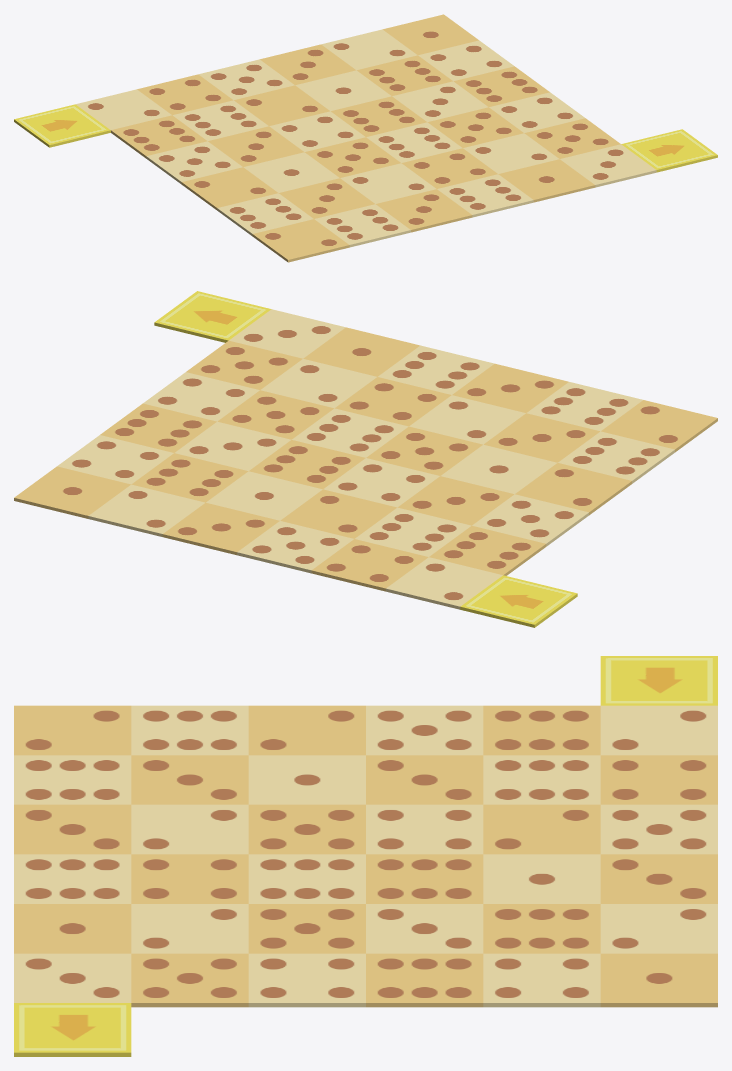
The model's file is diceMap.glb.
The picture shows the model from 3 angles, top to bottom: view 1: azimuth 30°, elevation 25°; view 2: azimuth 150°, elevation 25°; view 3: azimuth 270°, elevation 25°; orthographic projection. The views are drawn at different scales.
Visible parts, largest first — view 1: 立方体.023, 立方体.036, 立方体.019, 立方体.018, 立方体.022, 立方体.020, 立方体.037, 立方体.021, 立方体.035, 立方体.024, 立方体.012, 立方体.011 (+26 smaller); view 2: 立方体.036, 立方体.001, 立方体.004, 立方体.005, 立方体, 立方体.003, 立方体.002, 立方体.037, 立方体.023, 立方体.024, 立方体.035, 立方体.011 (+26 smaller); view 3: 立方体.008, 立方体.027, 立方体.003, 立方体.015, 立方体.032, 立方体.037, 立方体.009, 立方体.011, 立方体.024, 立方体.026, 立方体, 立方体.002 (+26 smaller).
Part boxes in pixels (x1,y1,x2,y2): 立方体.023: (252,219,349,262); 立方体.036: (14,104,110,147); 立方体.019: (498,159,595,202); 立方体.018: (437,174,533,217); 立方体.022: (314,204,410,247); 立方体.020: (560,144,656,187); 立方体.037: (621,129,717,172); 立方体.021: (376,189,472,232); 立方体.035: (181,167,278,210); 立方体.024: (217,193,313,236); 立方体.012: (146,141,242,184); 立方体.011: (111,115,207,158); 立方体.036: (460,575,577,627); 立方体.001: (311,539,428,591); 立方体.004: (88,484,204,536); 立方体.005: (162,502,279,555); 立方体: (386,557,502,609); 立方体.003: (14,466,130,518); 立方体.002: (237,521,353,573); 立方体.037: (154,291,271,342); 立方体.023: (601,400,717,452); 立方体.024: (558,431,674,483); 立方体.035: (515,463,631,515); 立方体.011: (429,526,546,575); 立方体.008: (483,953,600,1007); 立方体.027: (131,953,248,1007); 立方体.003: (600,953,717,1007); 立方体.015: (366,953,483,1007); 立方体.032: (248,953,365,1007); 立方体.037: (14,1003,131,1056); 立方体.009: (483,804,600,854); 立方体.011: (483,705,600,755); 立方体.024: (131,705,248,755); 立方体.026: (131,804,248,854); 立方体: (600,705,717,755); 立方体.002: (600,804,717,854).
Bounding box in the file's own units: 40 × 0.2 × 30.
Materials: 18 (14 with a texture image).
